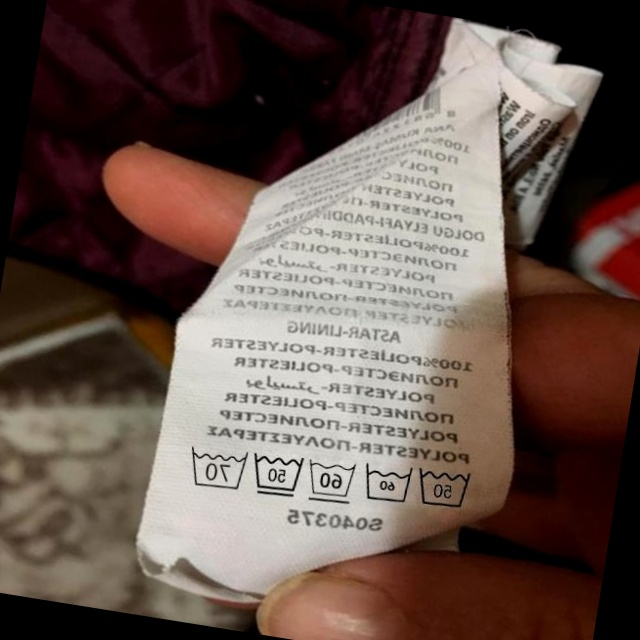50C: (410, 457, 479, 516), (245, 446, 308, 503)
60C: (299, 452, 359, 507), (356, 457, 416, 510)
70C: (179, 440, 250, 495)
